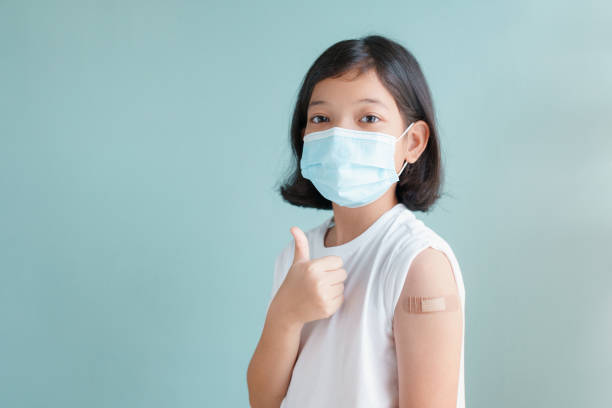with mask: (297, 73, 413, 213)
